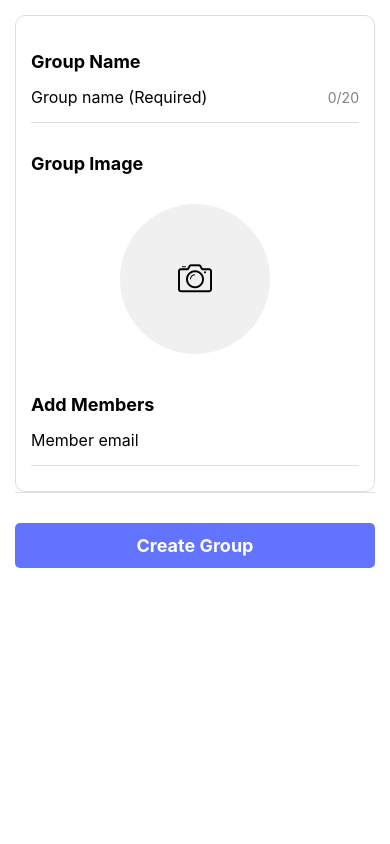
Scenario: CreateGroupScreen › displays error for invalid group name
The image size is (390, 844).
Type "Te" into the field with placeholder "Group name (Required)" at [174, 97], box [31,82,318,112]
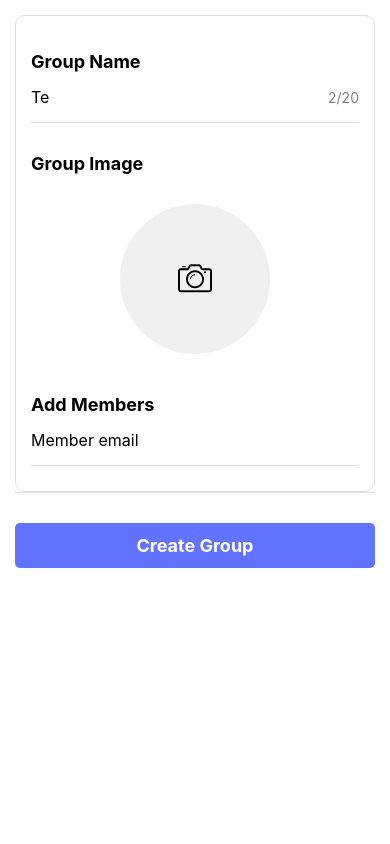
Click the button "Create Group" at [195, 546], box [15,523,375,568]
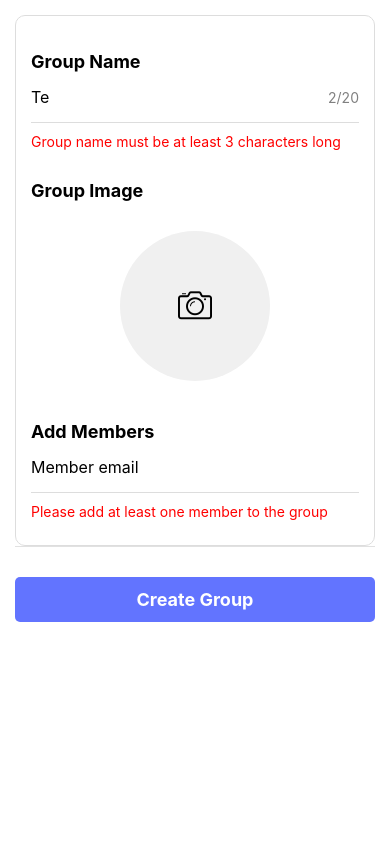
expect the text "Group name must be at least 3 characters long" is shown: met, box [31,133,359,150]
